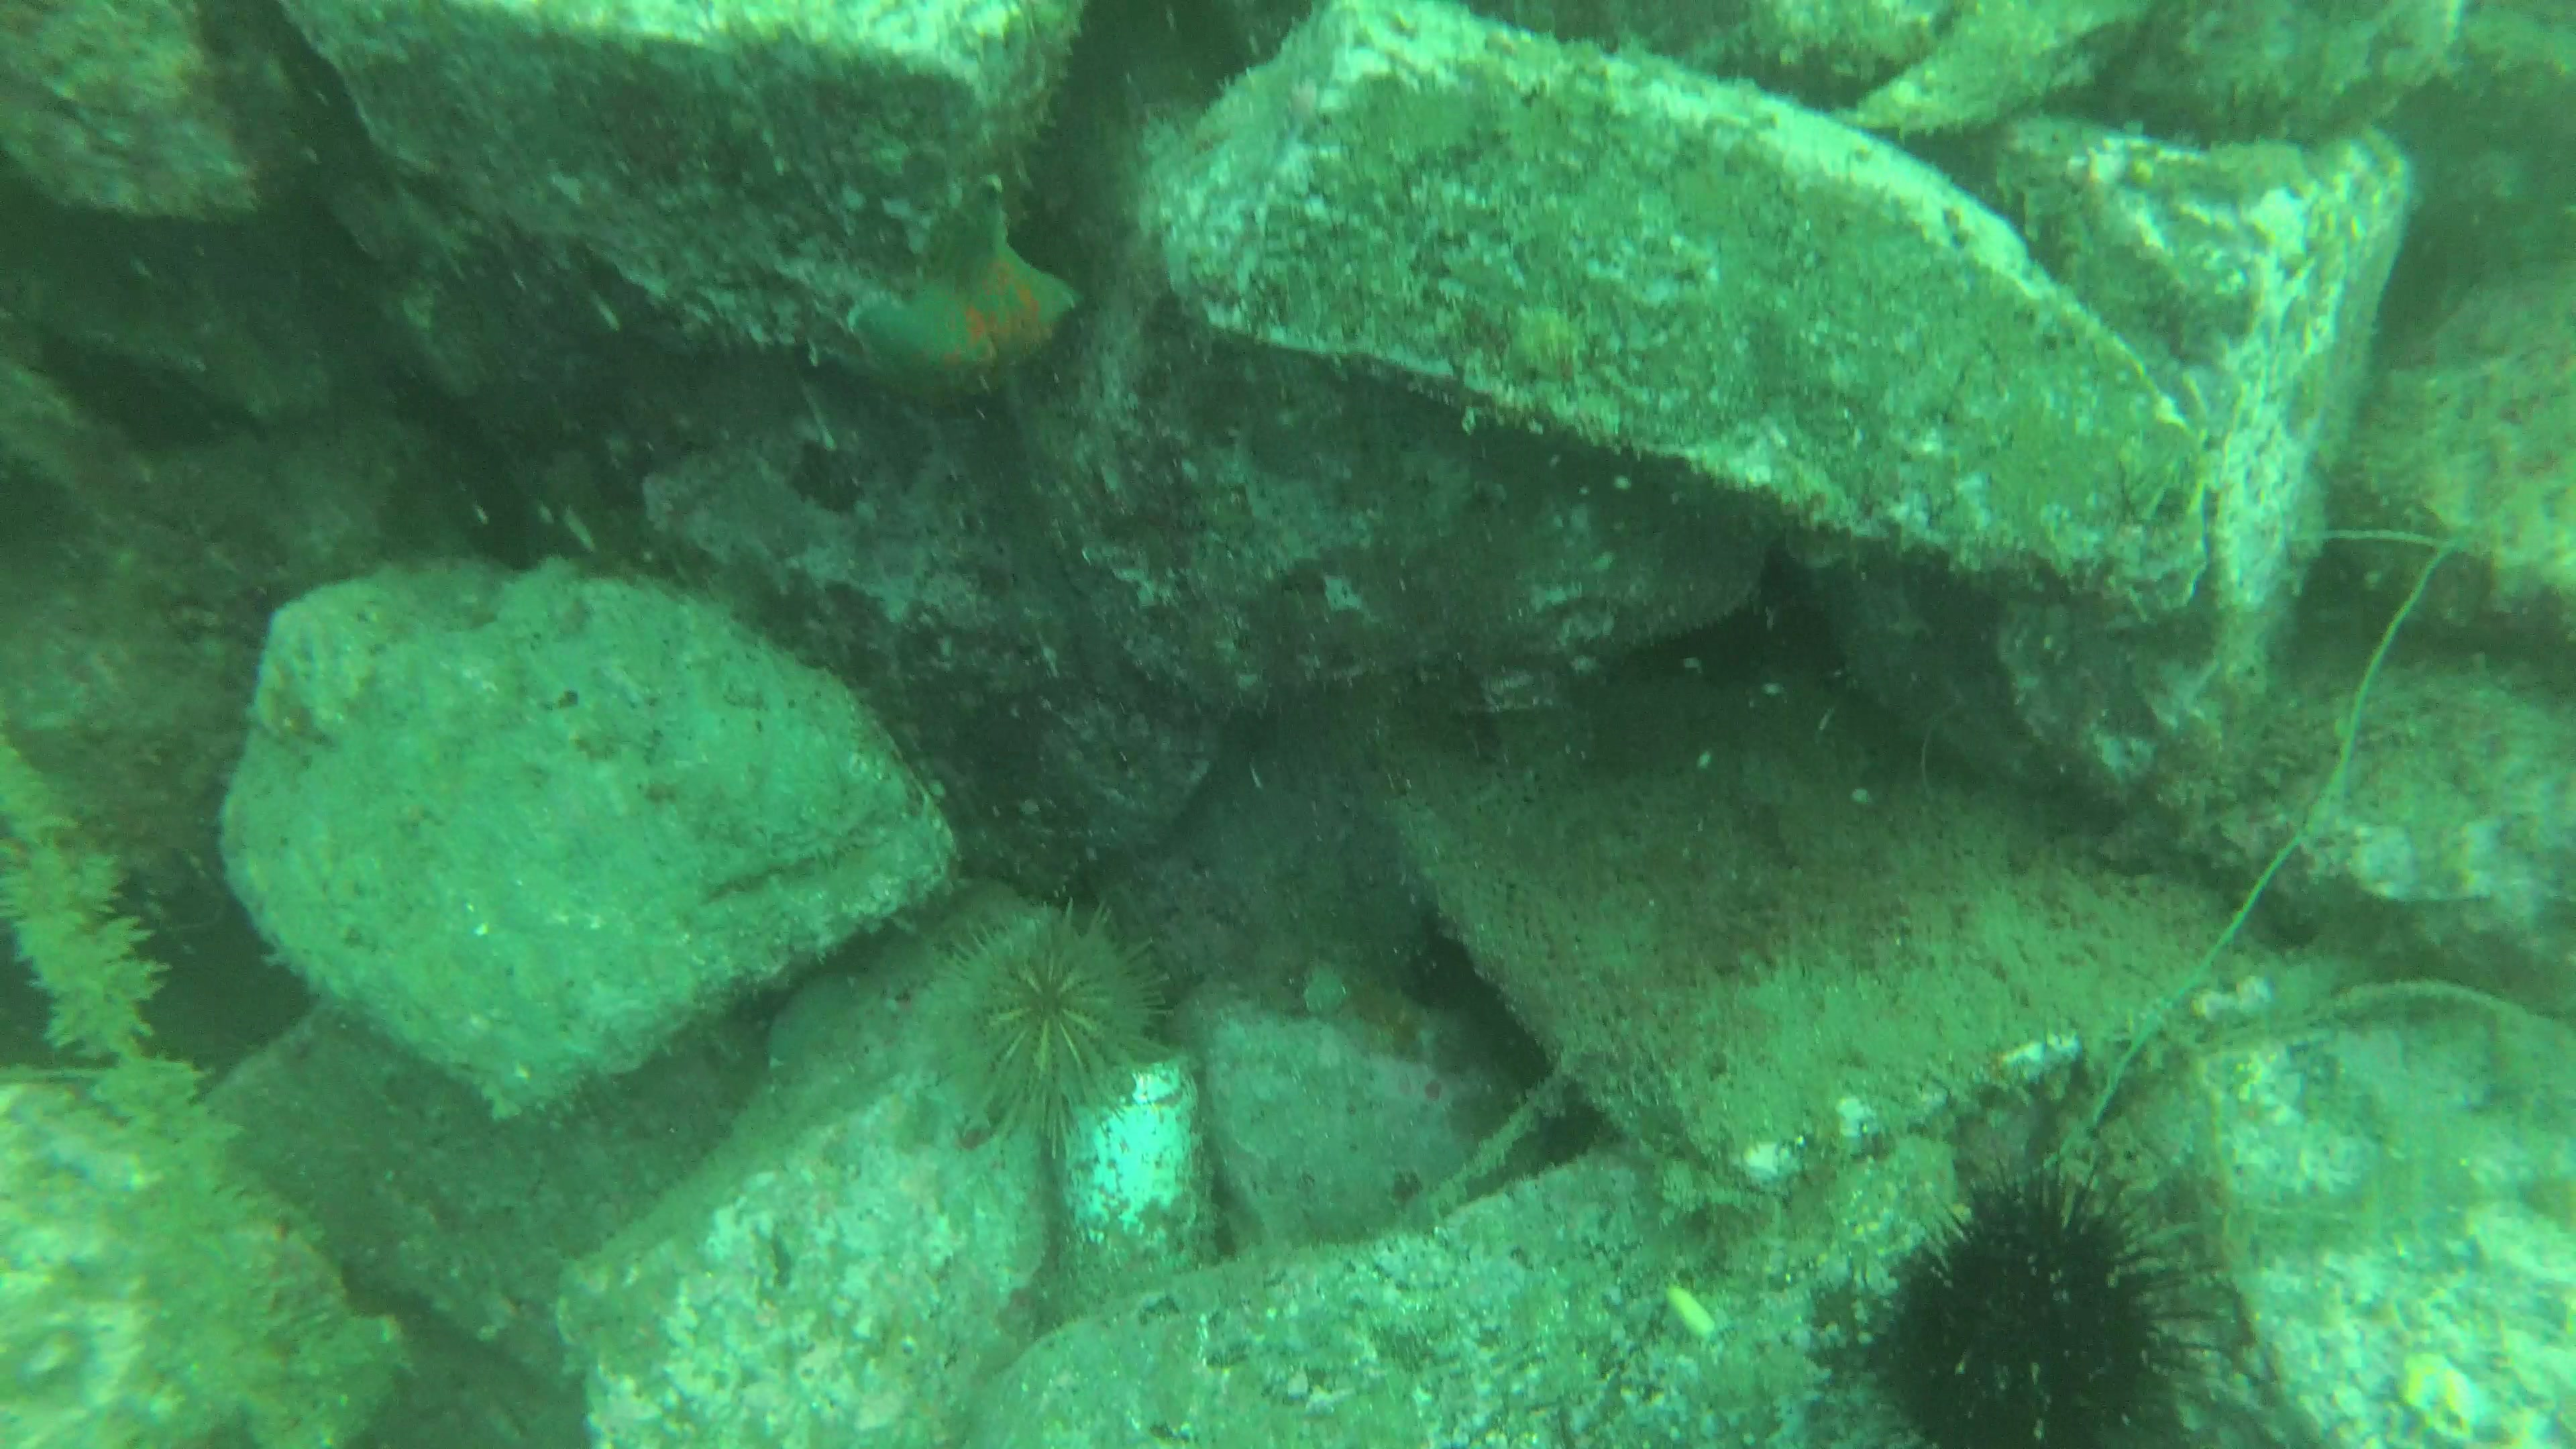echinus: (1865, 1159, 2227, 1449), (954, 897, 1180, 1150)
starfish: (855, 179, 1092, 395)
